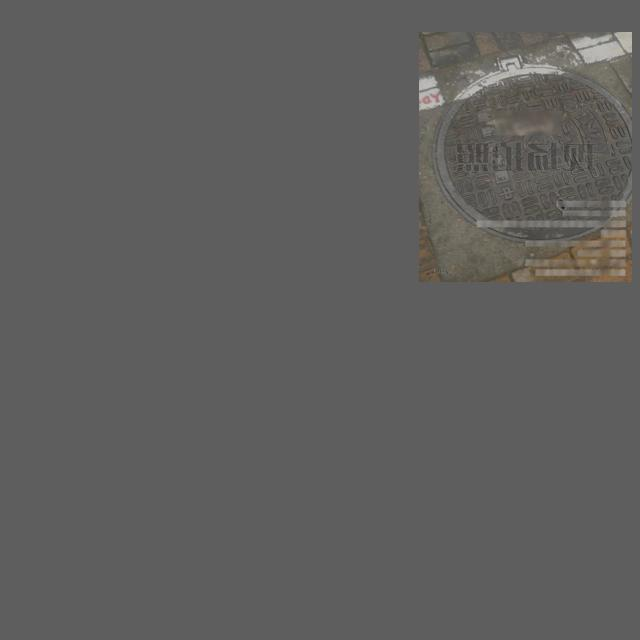good: (431, 52, 632, 243)
